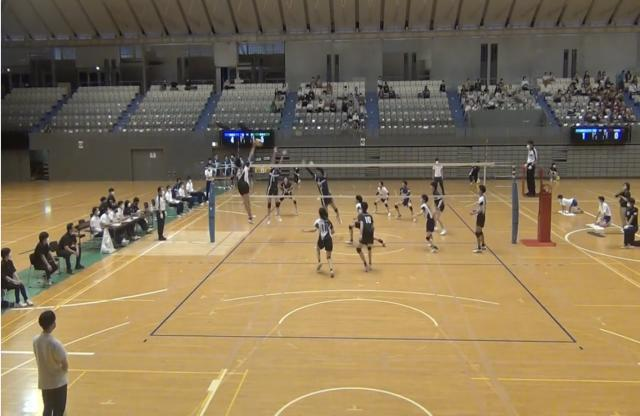spike: (231, 135, 265, 229)
